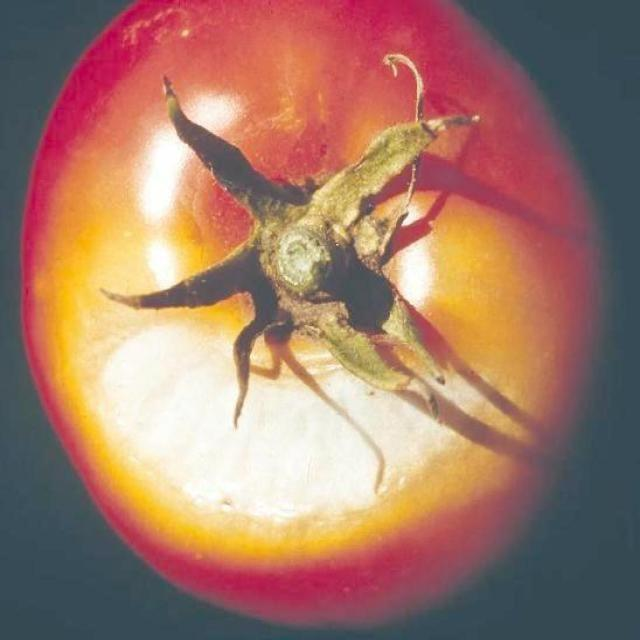Sunscald Fruit: (62, 209, 330, 371)
